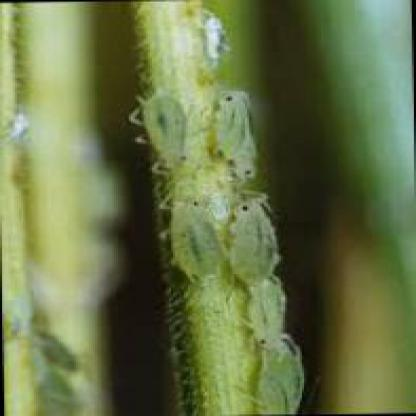schizaphis graminum: (229, 195, 282, 289), (170, 195, 223, 286), (250, 284, 287, 349)
